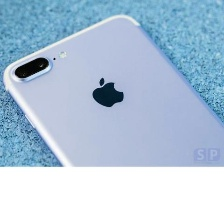phone: (1, 11, 223, 224)
